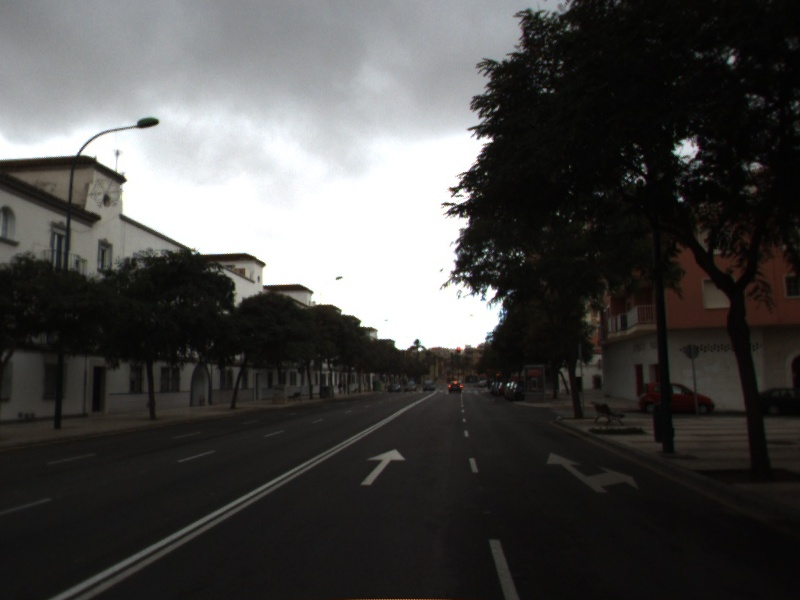STRAIGHT: (359, 447, 408, 486)
STRAIGHT_RIGHT: (545, 451, 640, 493)
